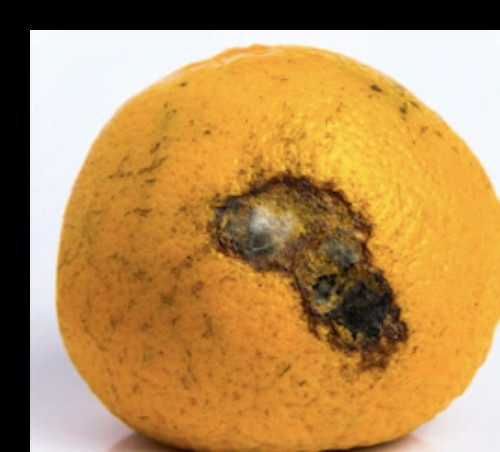rotten_orange: (61, 48, 500, 452)
